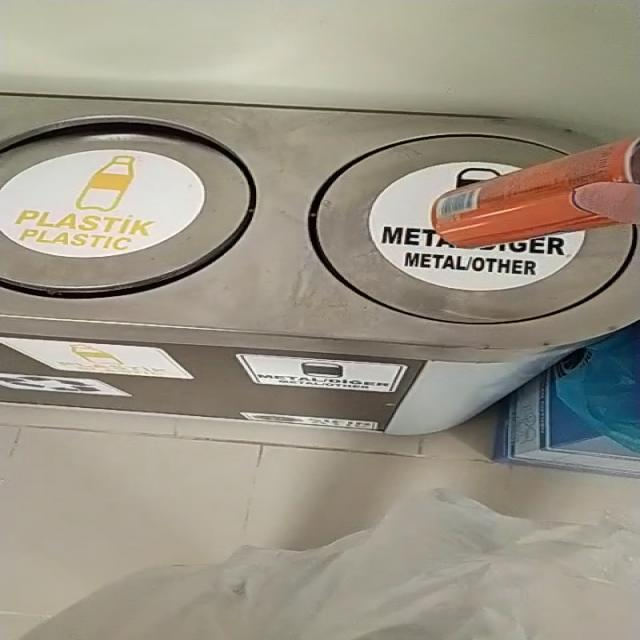Bin: (0, 94, 639, 436)
Metal: (432, 139, 634, 248)
